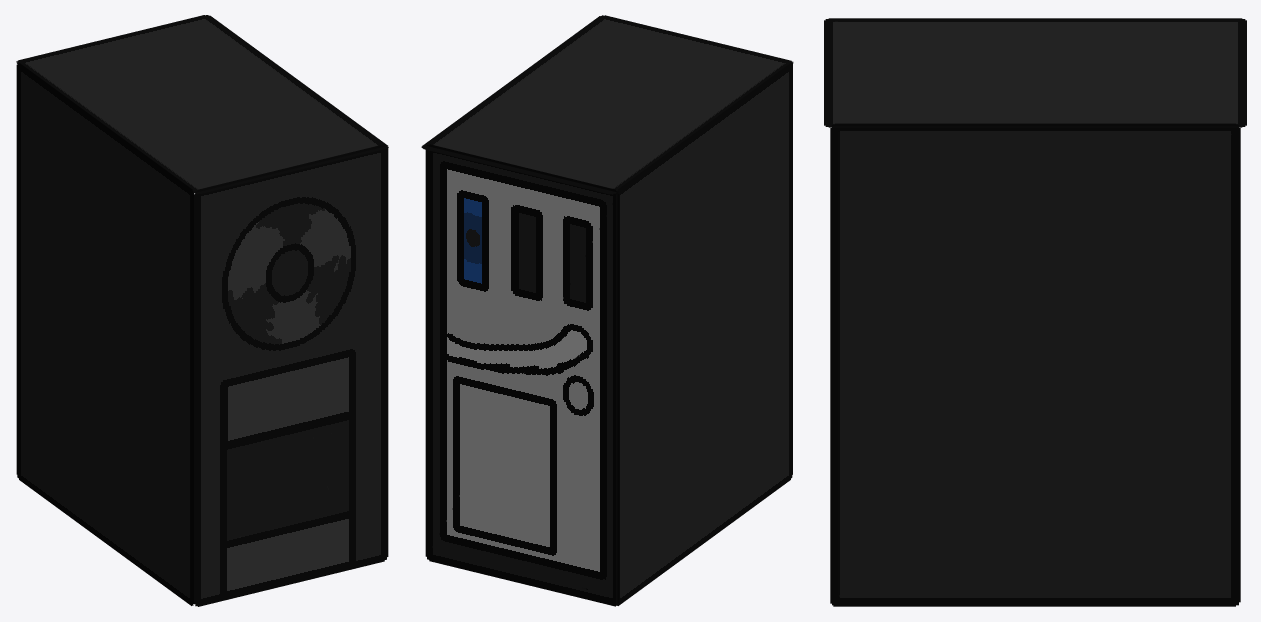
Rendered from CPU.gltf.
3 views of the same model, side by side, from view 1: azimuth 30°, elevation 25°; view 2: azimuth 150°, elevation 25°; view 3: azimuth 270°, elevation 25° (orthographic). The views are drawn at different scales.
Visible parts, largest first — view 1: default; view 2: default; view 3: default.
Boxes of the visible parts, x1,y1,x2,y2 form: default: [16, 15, 388, 606]; default: [421, 15, 793, 606]; default: [824, 18, 1246, 606].
Bounding box in the file's own units: 10.44 × 21.19 × 16.81.
Materials: 1 (1 with a texture image).
